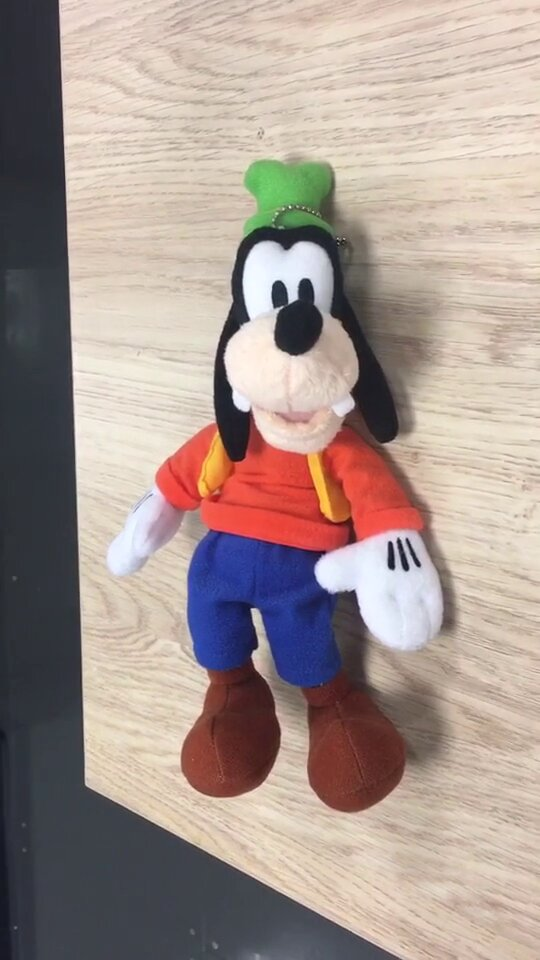goofy: (104, 156, 450, 816)
